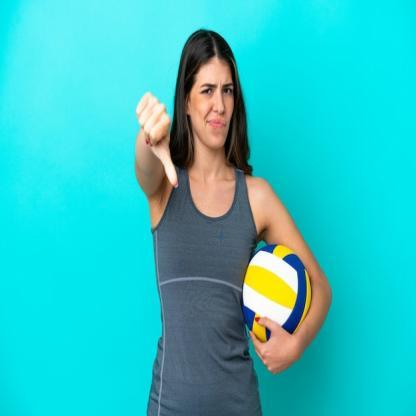thumb_down: (131, 86, 183, 192)
